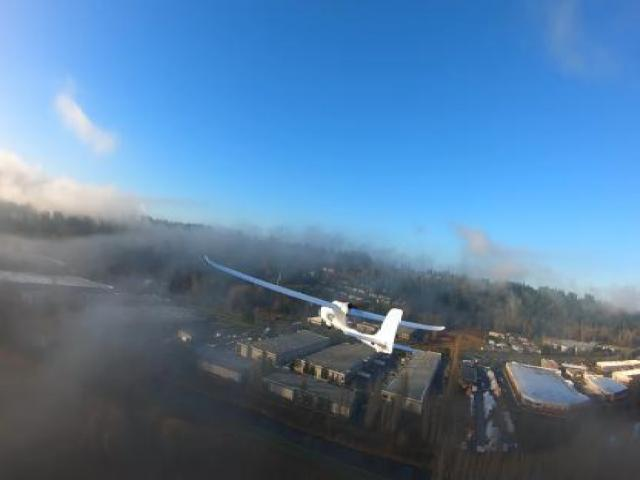uav: (194, 244, 454, 368)
